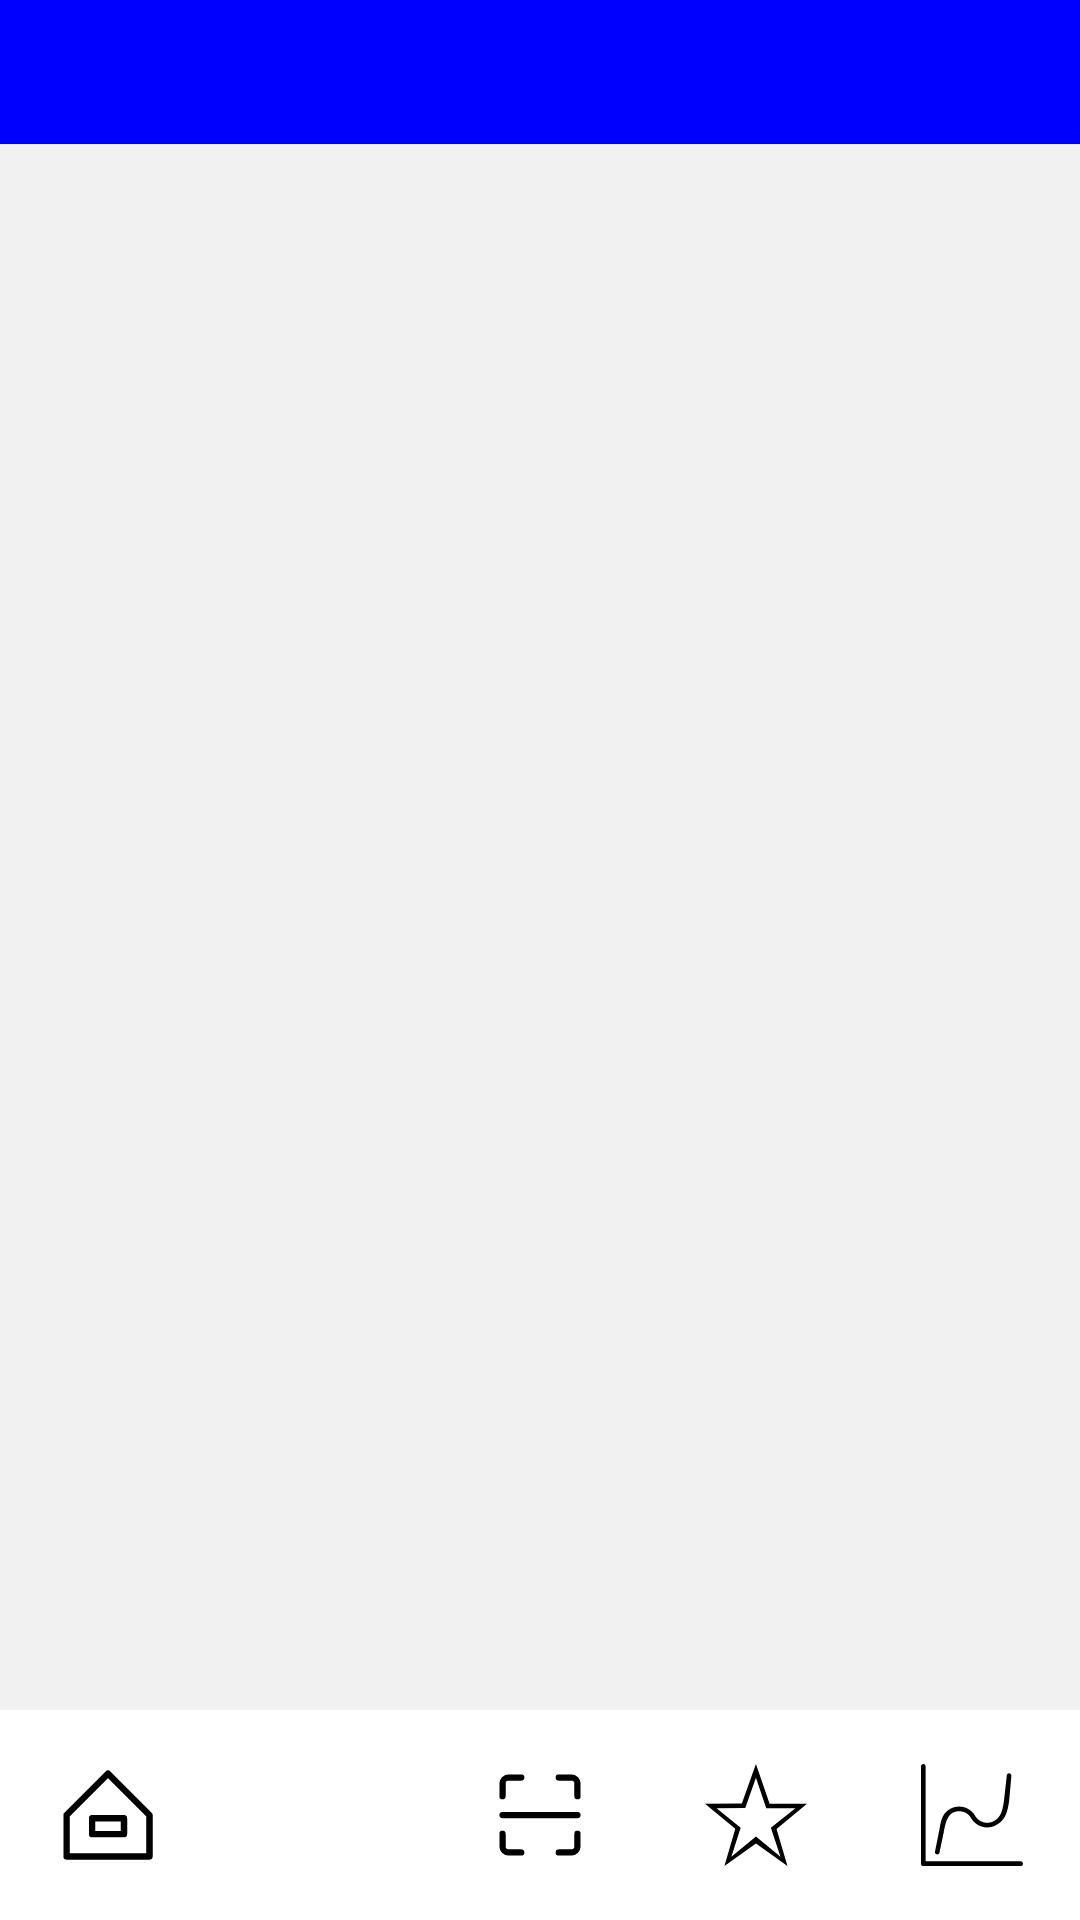

Icons on this 1080 x 1920 Android screen, each with its box as bbox=[x1, y1, x2, y2]:
favor: bbox=[705, 1764, 807, 1866]
home: bbox=[63, 1770, 153, 1860]
stat: bbox=[921, 1764, 1023, 1866]
